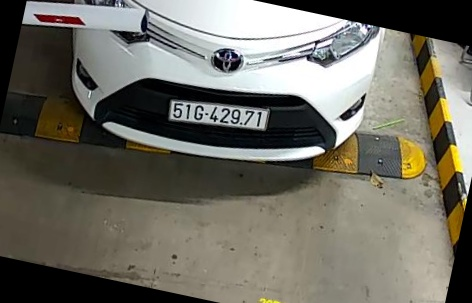plate: (167, 96, 267, 138)
